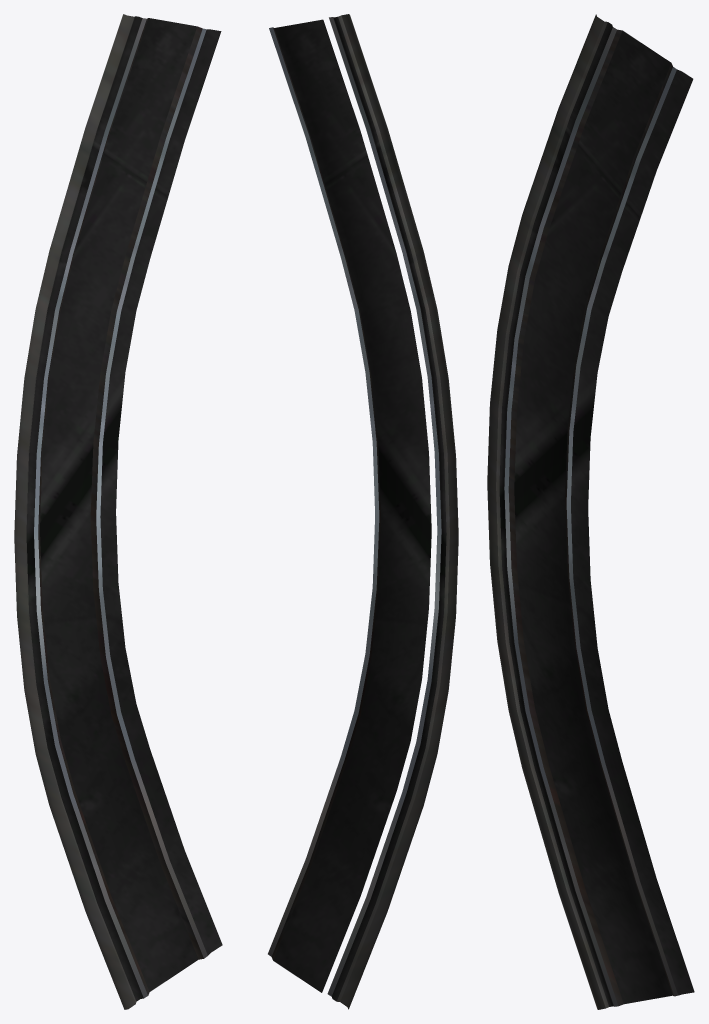
The model's file is p6_express_train_track_a03_LOD2.obj.
3 views of the same model, side by side, from view 1: azimuth 30°, elevation 25°; view 2: azimuth 150°, elevation 25°; view 3: azimuth 330°, elevation 25° (orthographic).
Visible parts, largest first — view 1: metal_aircraft_catapult_strip, dub_concrete_wall_01_trim_clean, railroadtrack_top, railroadtrack_side; view 2: metal_aircraft_catapult_strip, dub_concrete_wall_01_trim_clean, railroadtrack_top, railroadtrack_side; view 3: metal_aircraft_catapult_strip, dub_concrete_wall_01_trim_clean, railroadtrack_top, railroadtrack_side.
Boxes of the visible parts, <box> form: metal_aircraft_catapult_strip: <box>26,16,222,1001</box>; dub_concrete_wall_01_trim_clean: <box>14,14,136,1009</box>; railroadtrack_top: <box>34,18,207,998</box>; railroadtrack_side: <box>38,18,203,995</box>; metal_aircraft_catapult_strip: <box>273,16,446,1001</box>; dub_concrete_wall_01_trim_clean: <box>337,14,458,1009</box>; railroadtrack_top: <box>268,17,441,996</box>; railroadtrack_side: <box>271,27,380,960</box>; metal_aircraft_catapult_strip: <box>499,22,694,1006</box>; dub_concrete_wall_01_trim_clean: <box>487,14,608,1009</box>; railroadtrack_top: <box>504,27,678,1006</box>; railroadtrack_side: <box>508,29,673,1006</box>.
Size of the model in its own units: 866 by 3964 by 15.36.
